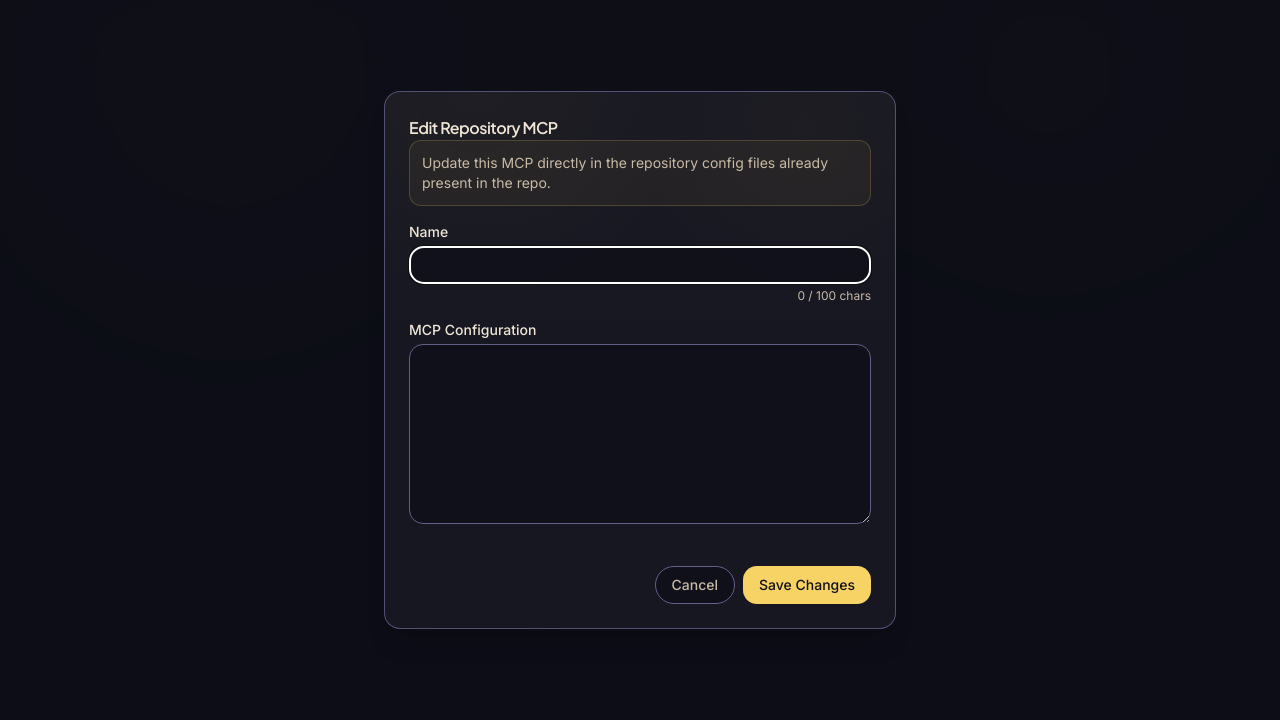
Test: EditRepoMcpModal › validates empty name on submit
This screenshot has width=1280, height=720.
Click the button "Save Changes" at (807, 585), box [743,566,871,604]
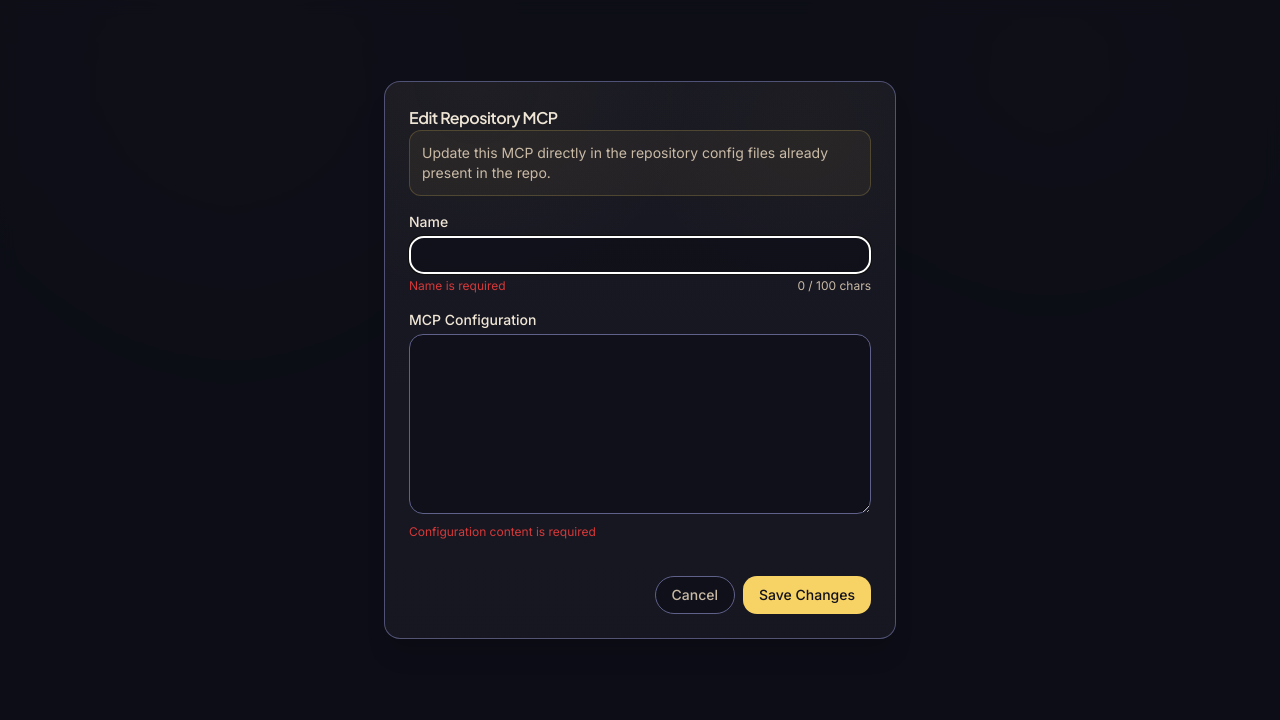
Check: the text "Name is required" is shown, box [409,278,506,294]
